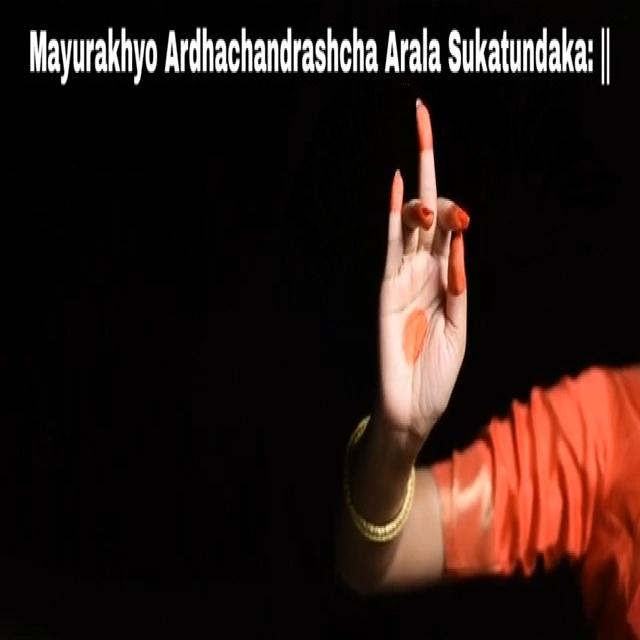Kangula: (362, 89, 491, 436)
bangle: (330, 458, 419, 550)
text: (24, 21, 614, 88)
